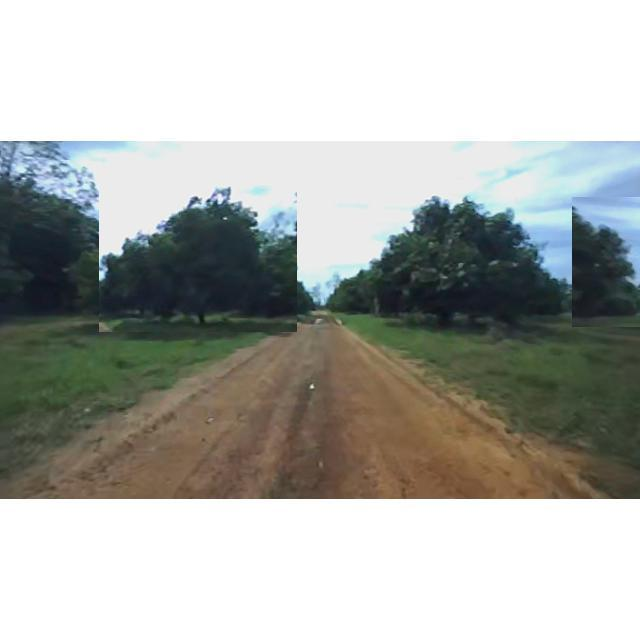direk: (99, 180, 297, 332), (370, 188, 560, 332), (1, 142, 108, 330), (572, 197, 640, 327), (229, 232, 311, 326), (324, 264, 404, 316)
